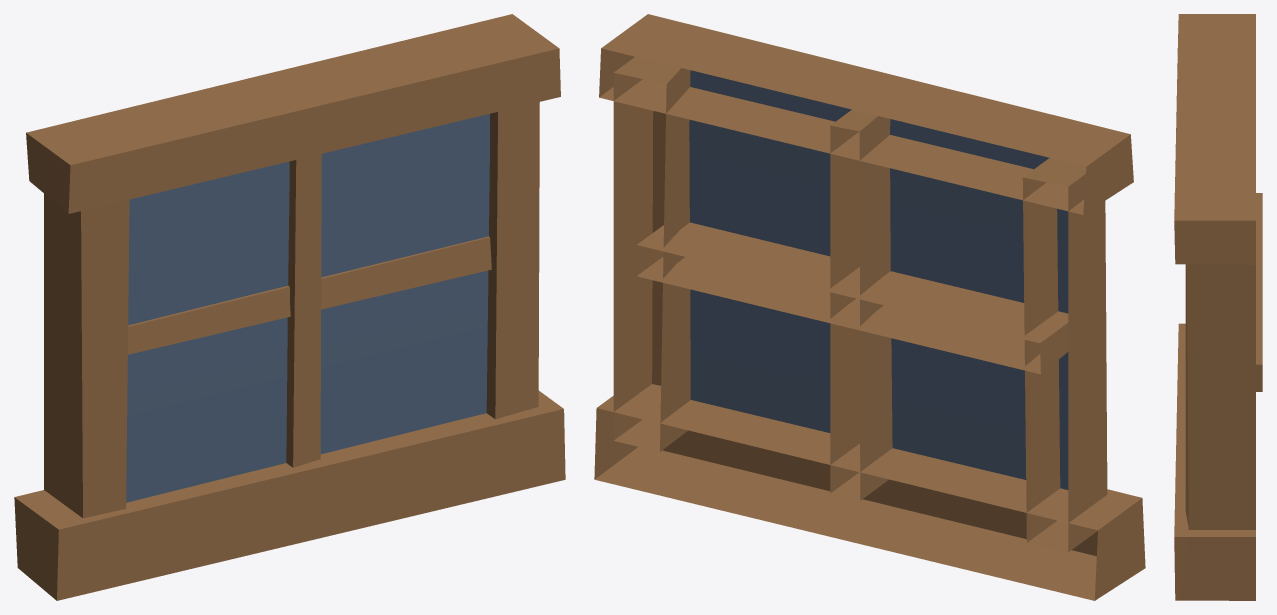
The model's file is House_Window_H.fbx.
3 renders of one model, left to right at view 1: azimuth 30°, elevation 25°; view 2: azimuth 150°, elevation 25°; view 3: azimuth 270°, elevation 25°, orthographic. The views are drawn at different scales.
Visible parts, largest first — view 1: House_Window_H; view 2: House_Window_H; view 3: House_Window_H.
Part boxes in pixels (x1,y1,x2,y2): House_Window_H: [14, 14, 565, 600]; House_Window_H: [594, 14, 1145, 600]; House_Window_H: [1174, 14, 1262, 600].
Bounding box in the file's own units: 121 × 98.8 × 20.98.
